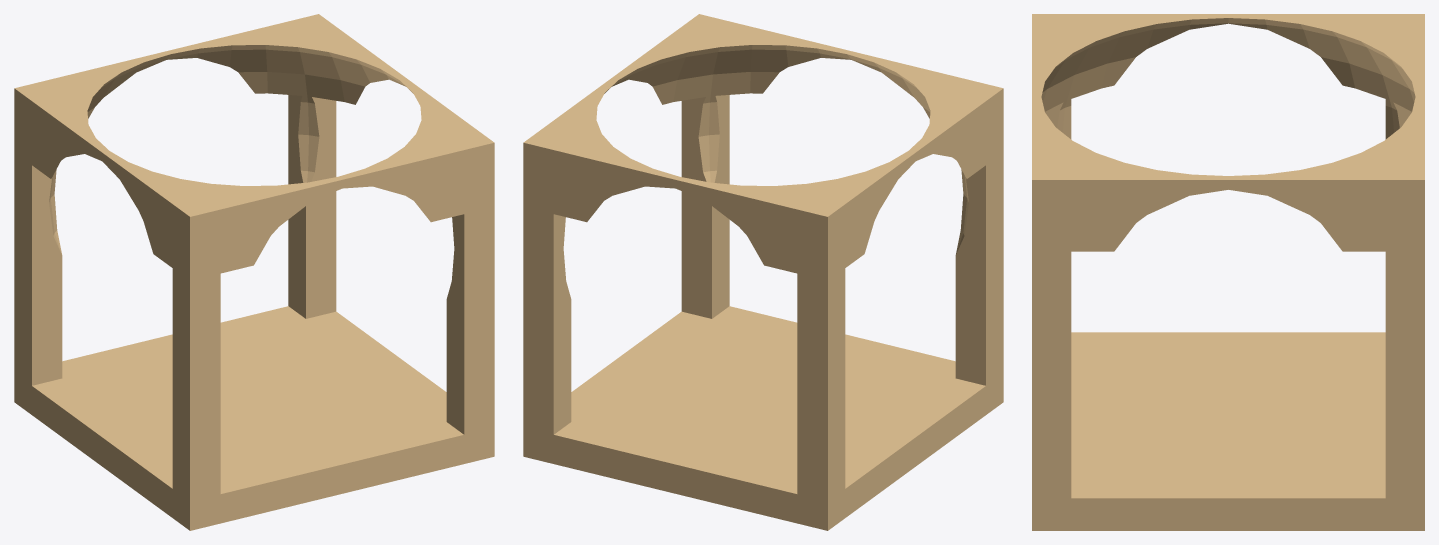
The picture shows the model from 3 angles, left to right: view 1: azimuth 30°, elevation 25°; view 2: azimuth 150°, elevation 25°; view 3: azimuth 270°, elevation 25°; orthographic projection. The views are drawn at different scales.
Parts seen in each view (by area): view 1: Cube.001; view 2: Cube.001; view 3: Cube.001.
Boxes of the visible parts, box(x1,y1,x2,y2) form: Cube.001: box(14, 14, 494, 530); Cube.001: box(523, 14, 1003, 530); Cube.001: box(1032, 14, 1424, 530).
Bounding box in the file's own units: 2 × 1.97 × 2.
